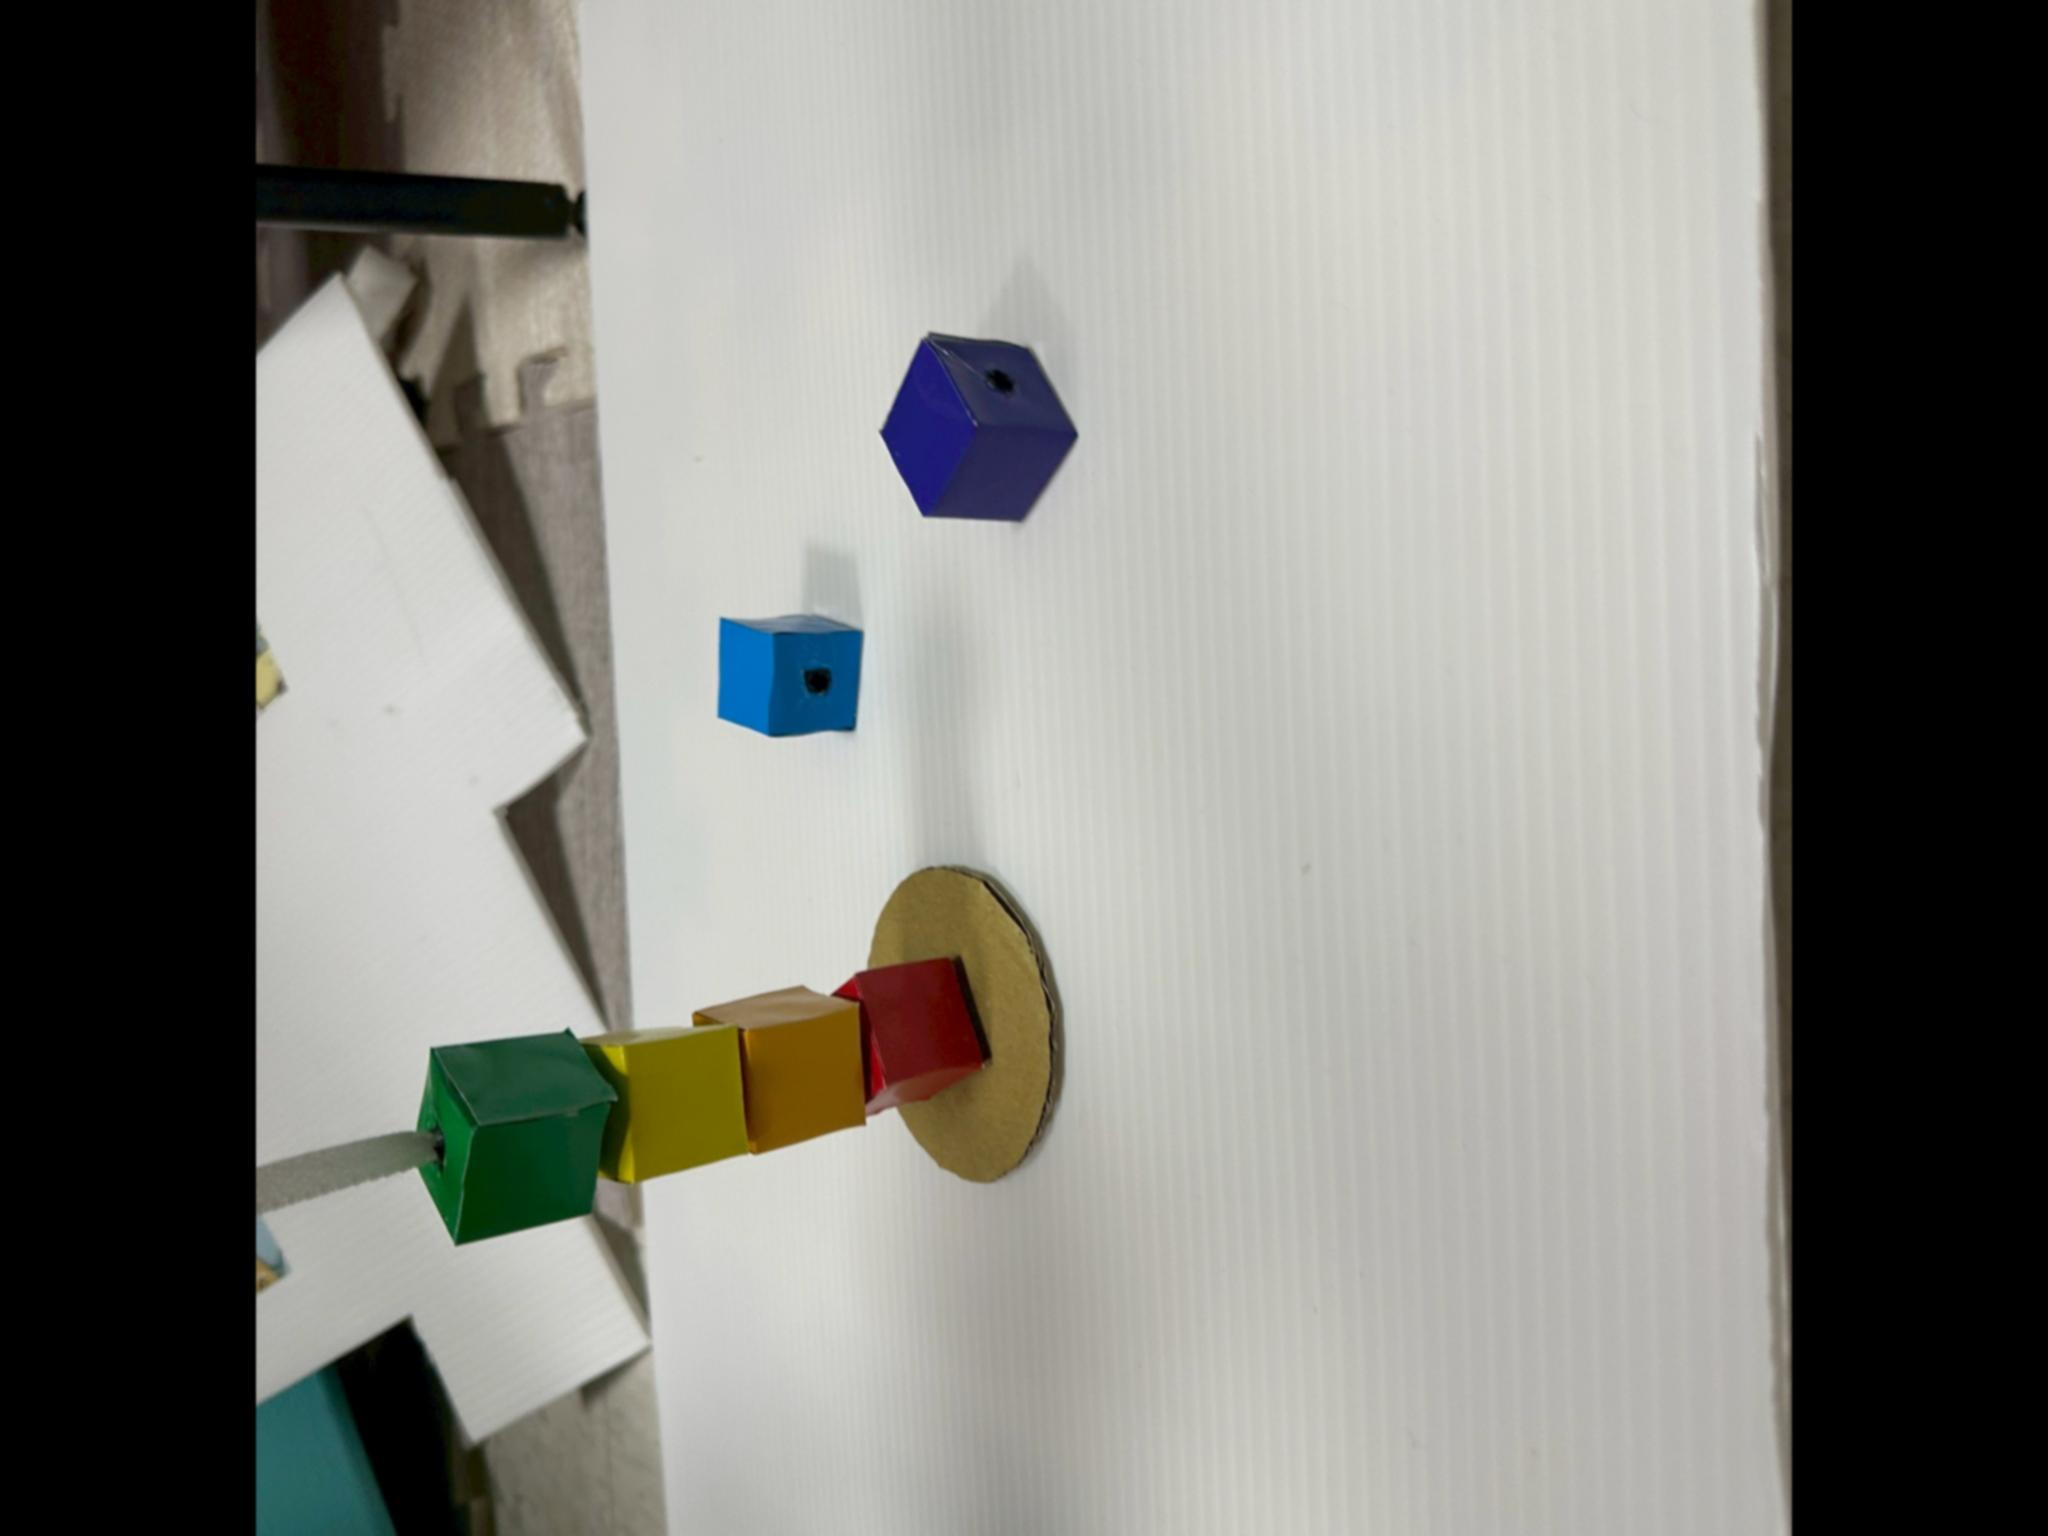base: (419, 1031, 618, 1244), (882, 332, 1077, 520), (695, 986, 864, 1152), (581, 1025, 748, 1184), (837, 958, 989, 1115), (719, 615, 861, 736)
